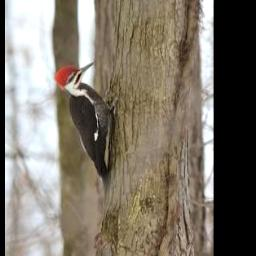Woodpecker: (54, 61, 124, 206)
